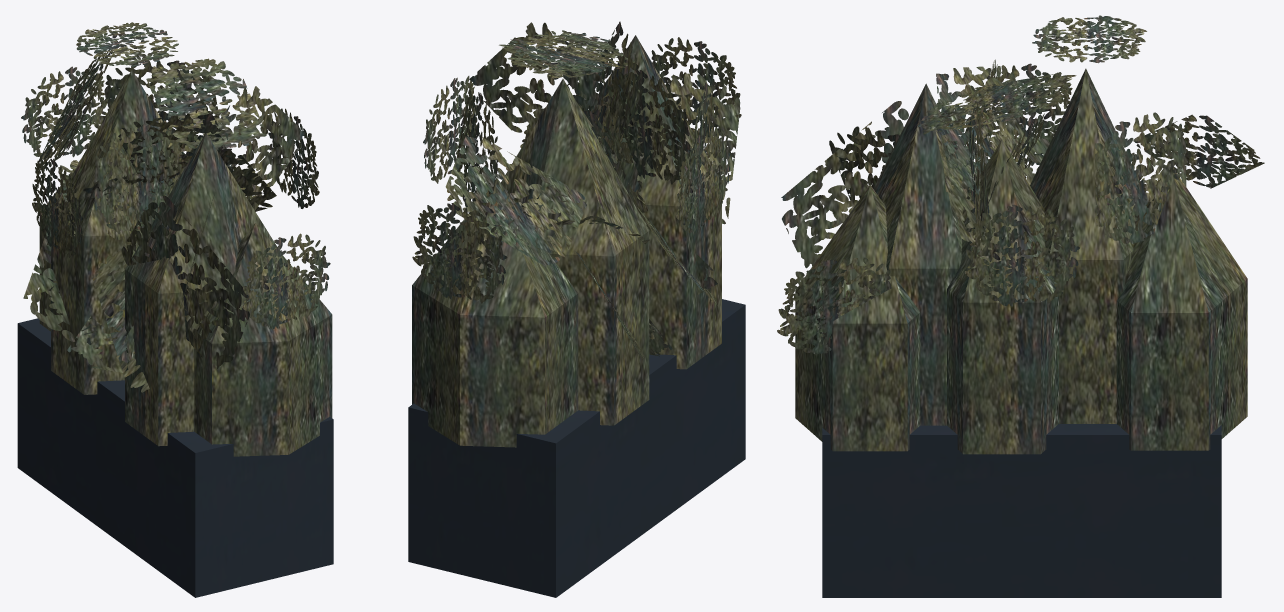
Rendered from SM_Molo_FiorieraAntracite_v2_LOD2.fbx.
3 renders of one model, left to right at view 1: azimuth 30°, elevation 25°; view 2: azimuth 150°, elevation 25°; view 3: azimuth 270°, elevation 25°, orthographic. The views are drawn at different scales.
Visible parts, largest first — view 1: SM_Molo_FiorieraAntracite_v2_LOD2; view 2: SM_Molo_FiorieraAntracite_v2_LOD2; view 3: SM_Molo_FiorieraAntracite_v2_LOD2.
Part boxes in pixels (x1,y1,x2,y2): SM_Molo_FiorieraAntracite_v2_LOD2: [17, 22, 333, 597]; SM_Molo_FiorieraAntracite_v2_LOD2: [408, 21, 745, 597]; SM_Molo_FiorieraAntracite_v2_LOD2: [777, 15, 1264, 597].
Size of the model in its own units: 77 by 124 by 141.
3 materials, 3 textured.
